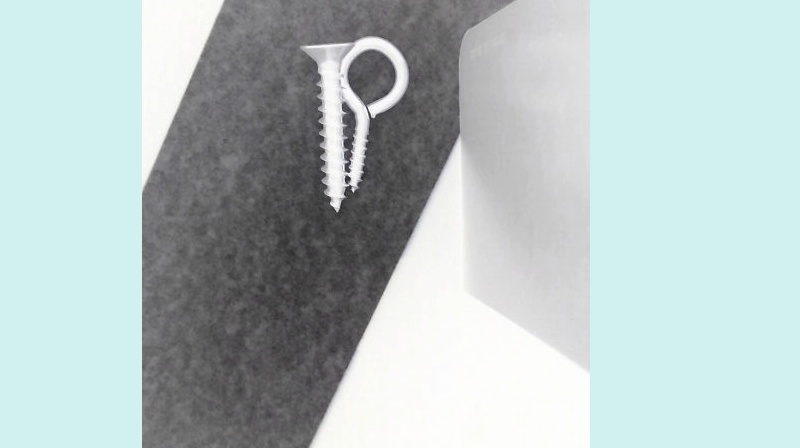O001: (334, 37, 406, 193)
S001: (296, 40, 352, 213)
